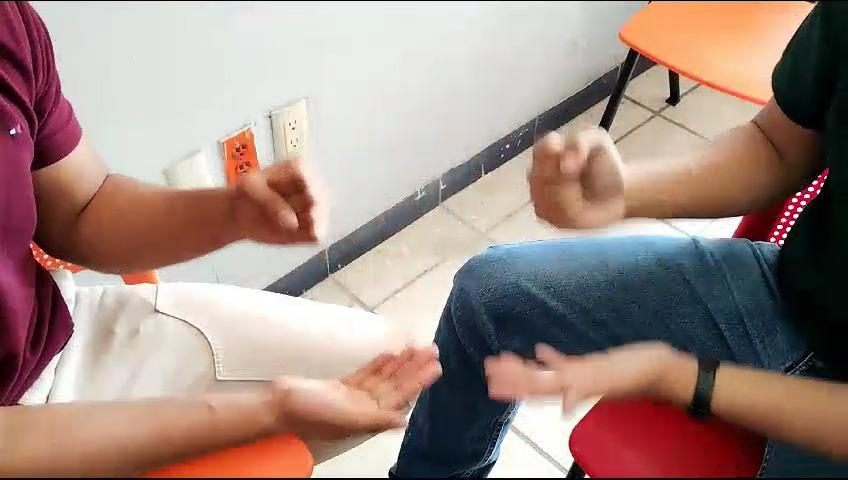Stone: (512, 119, 642, 241), (223, 157, 330, 256)
